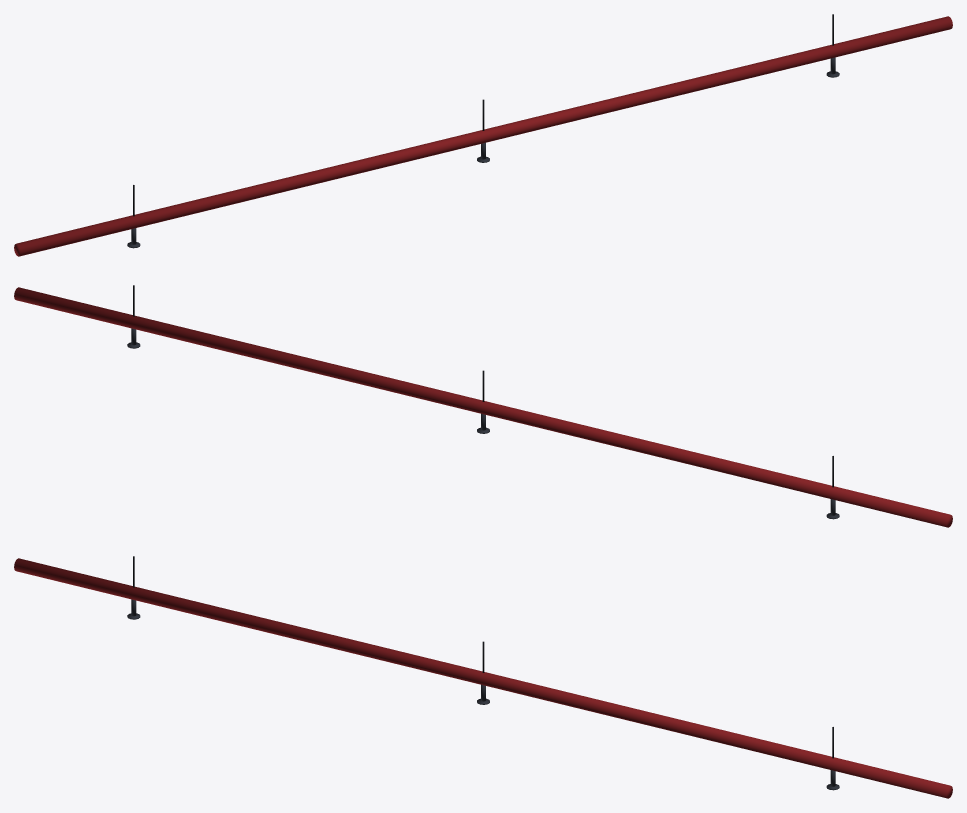
Rendered from Arch_Ceiling_Sprinkler_4m.glb.
3 renders of one model, top to bottom at view 1: azimuth 30°, elevation 25°; view 2: azimuth 150°, elevation 25°; view 3: azimuth 330°, elevation 25°, orthographic.
Visible parts, largest first — view 1: Arch_Ceiling_Sprinkler_4m; view 2: Arch_Ceiling_Sprinkler_4m; view 3: Arch_Ceiling_Sprinkler_4m.
Boxes of the visible parts, <box> form: Arch_Ceiling_Sprinkler_4m: <box>14,14,952,256</box>; Arch_Ceiling_Sprinkler_4m: <box>14,285,952,527</box>; Arch_Ceiling_Sprinkler_4m: <box>14,556,952,798</box>.
Size of the model in its own units: 4 by 0.247 by 0.05.
